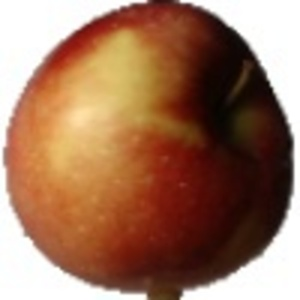maçã braeburn: (3, 2, 296, 291)
